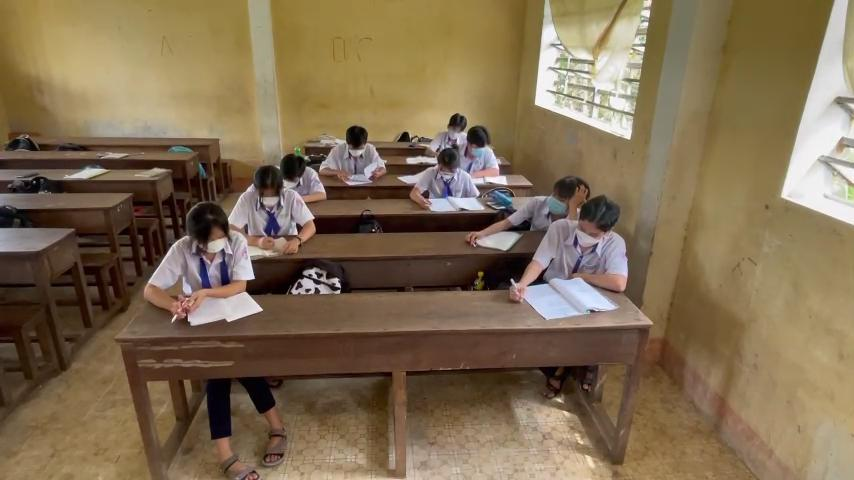Hand Under Table: (456, 166, 482, 198)
